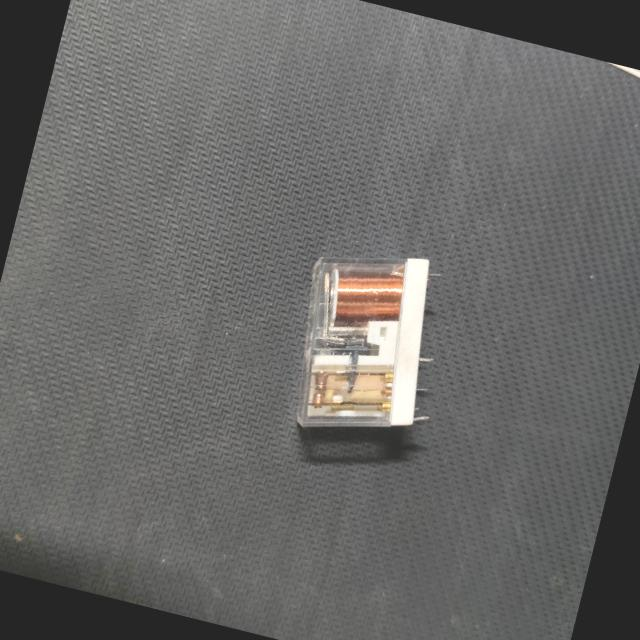relay: (264, 222, 476, 468)
